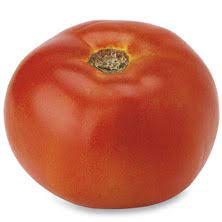tomato: (9, 25, 213, 214)
